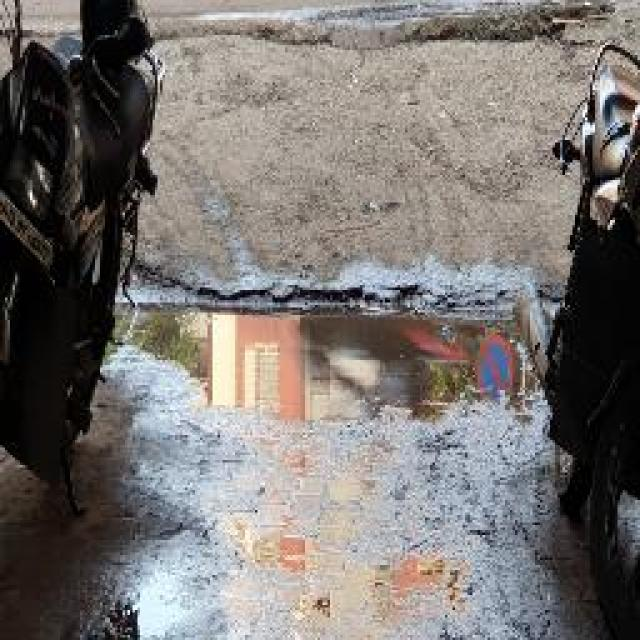puddle: (126, 291, 558, 432)
